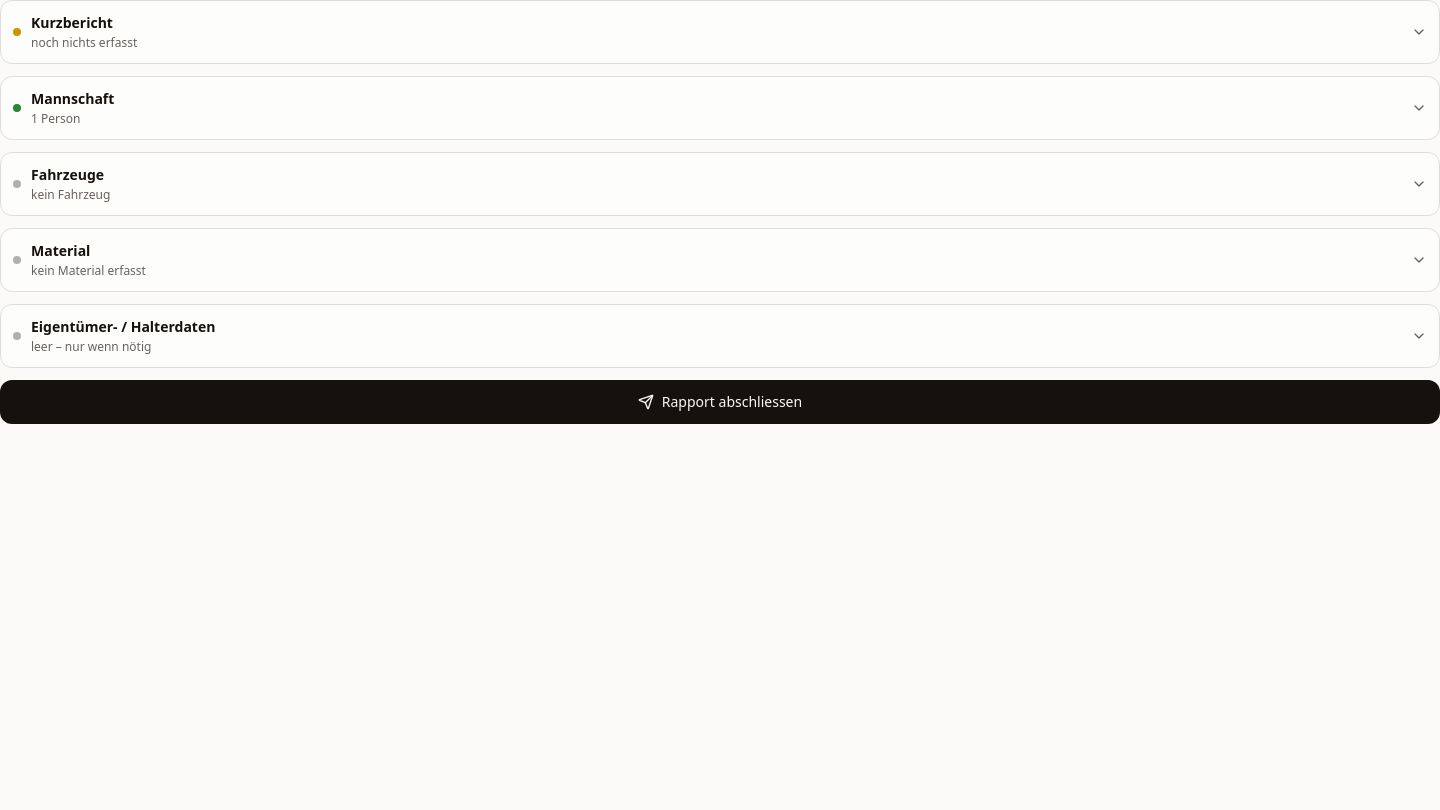
the Abschluss question (UX-PHONE-05) › a row lands on its section: unfolded, ringed, and the caret in its text field
What coordinates should you click on to do the following:
click the button "Rapport abschliessen"
I would click on:
 (720, 402)
Its box is [0, 380, 1439, 424].
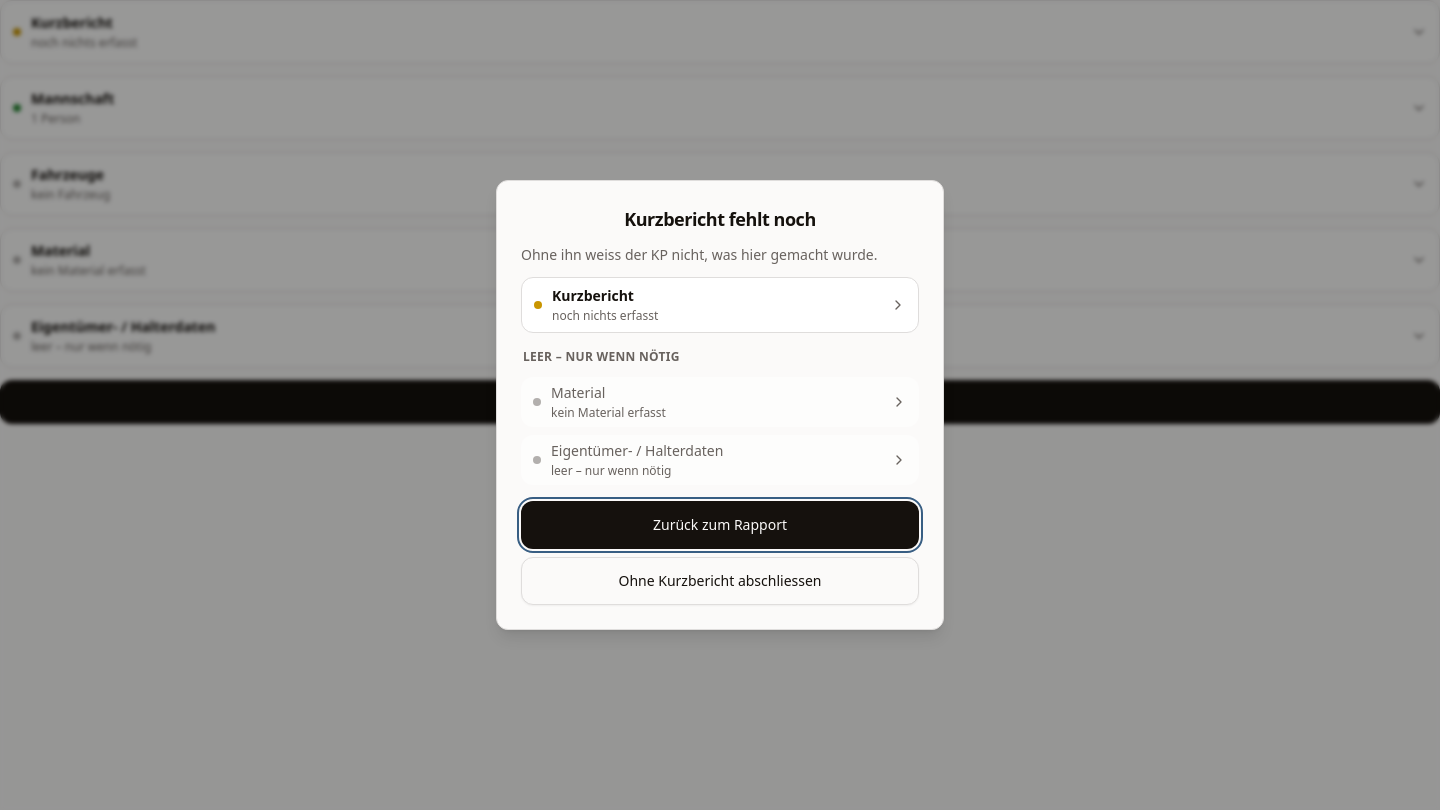
What coordinates should you click on to do the following:
click the button "Kurzbericht noch nichts erfasst"
I would click on:
 (593, 296)
Its box is [521, 277, 919, 333].
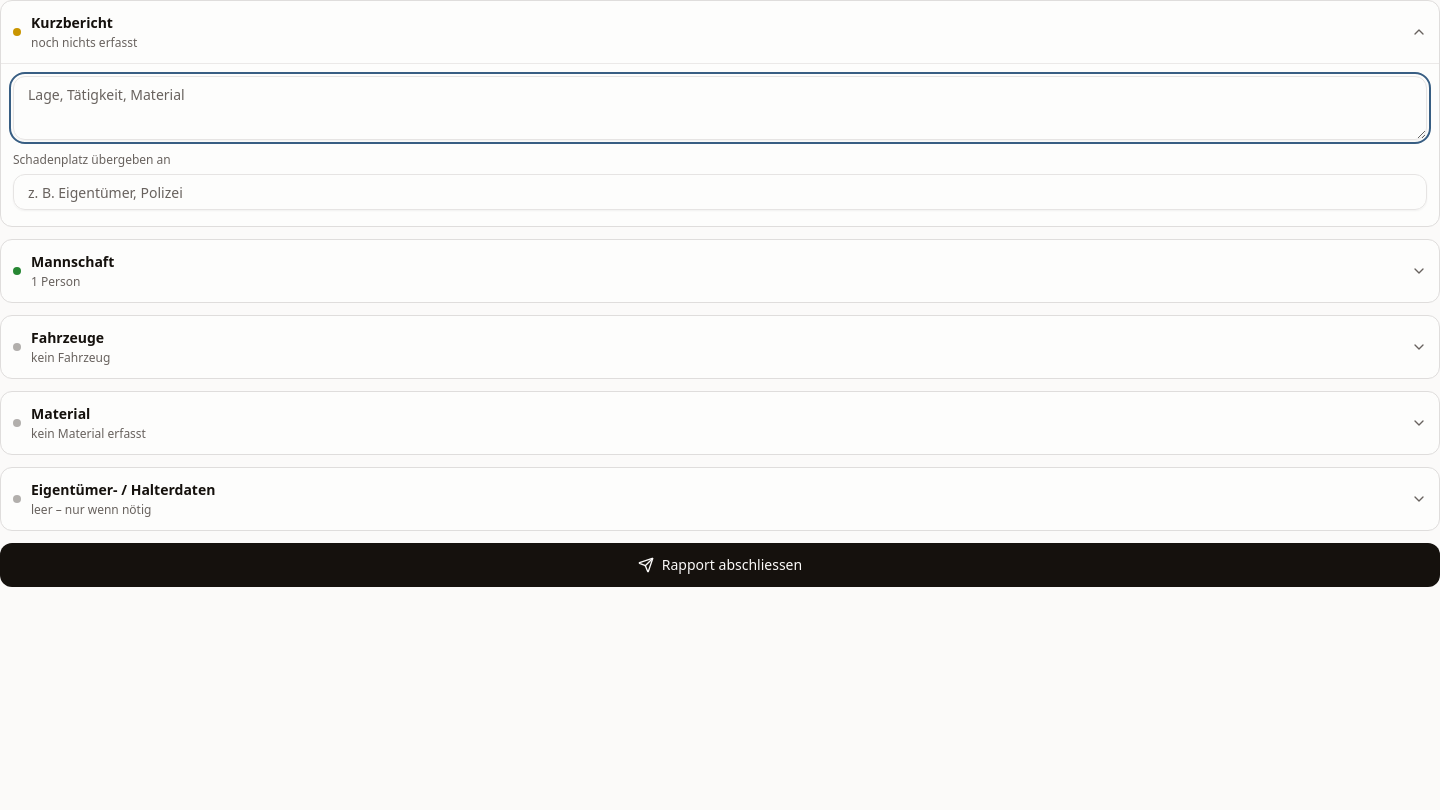
Expected: the dialog is gone
Expected: the text box with placeholder "Lage, Tätigkeit, Material" is shown, [13, 76, 1427, 140]
